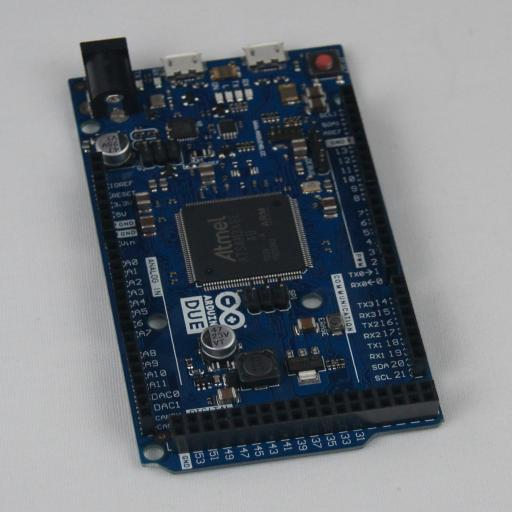Arduino Due: (68, 38, 444, 474)
